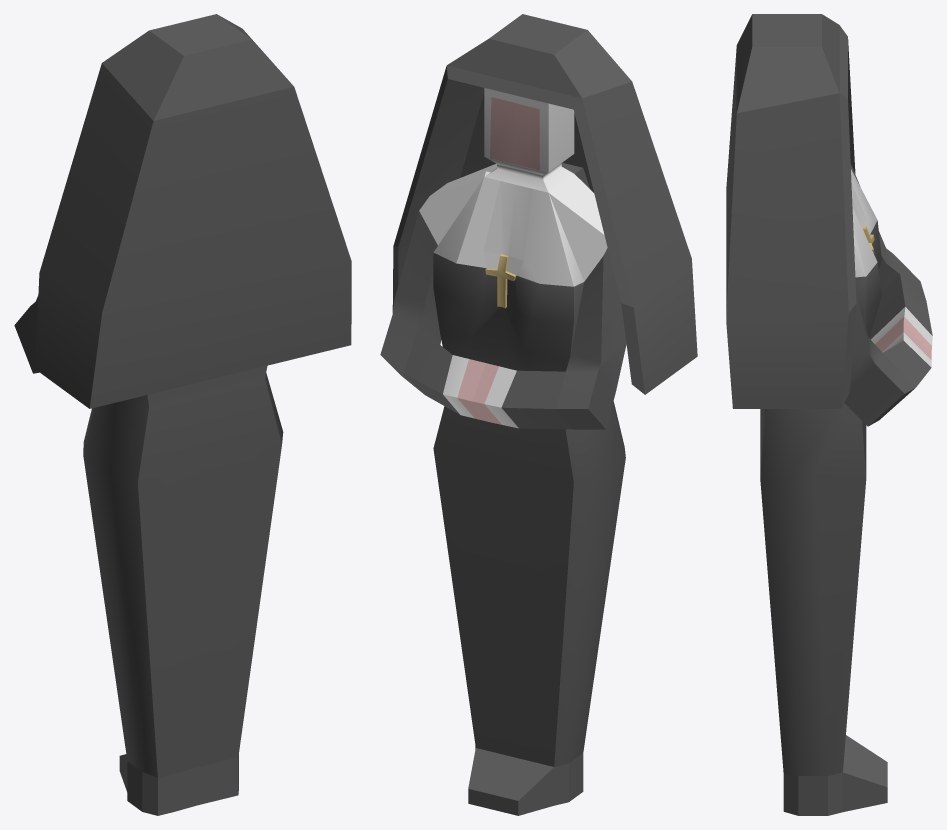
File: nun_2.fbx
3 renders of one model, left to right at view 1: azimuth 30°, elevation 25°; view 2: azimuth 150°, elevation 25°; view 3: azimuth 270°, elevation 25°, orthographic. The views are drawn at different scales.
Visible parts, largest first — view 1: polySurface1; view 2: polySurface1; view 3: polySurface1.
Boxes of the visible parts, x1,y1,x2,y2 form: polySurface1: [14, 14, 351, 815]; polySurface1: [380, 14, 697, 815]; polySurface1: [726, 14, 932, 815].
Size of the model in its own units: 13.76 by 38.62 by 9.46.
